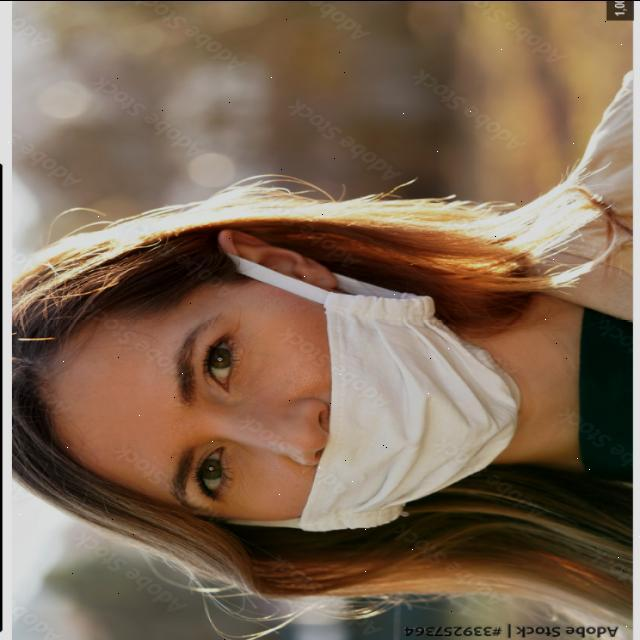face_half_mask: (51, 232, 493, 526)
